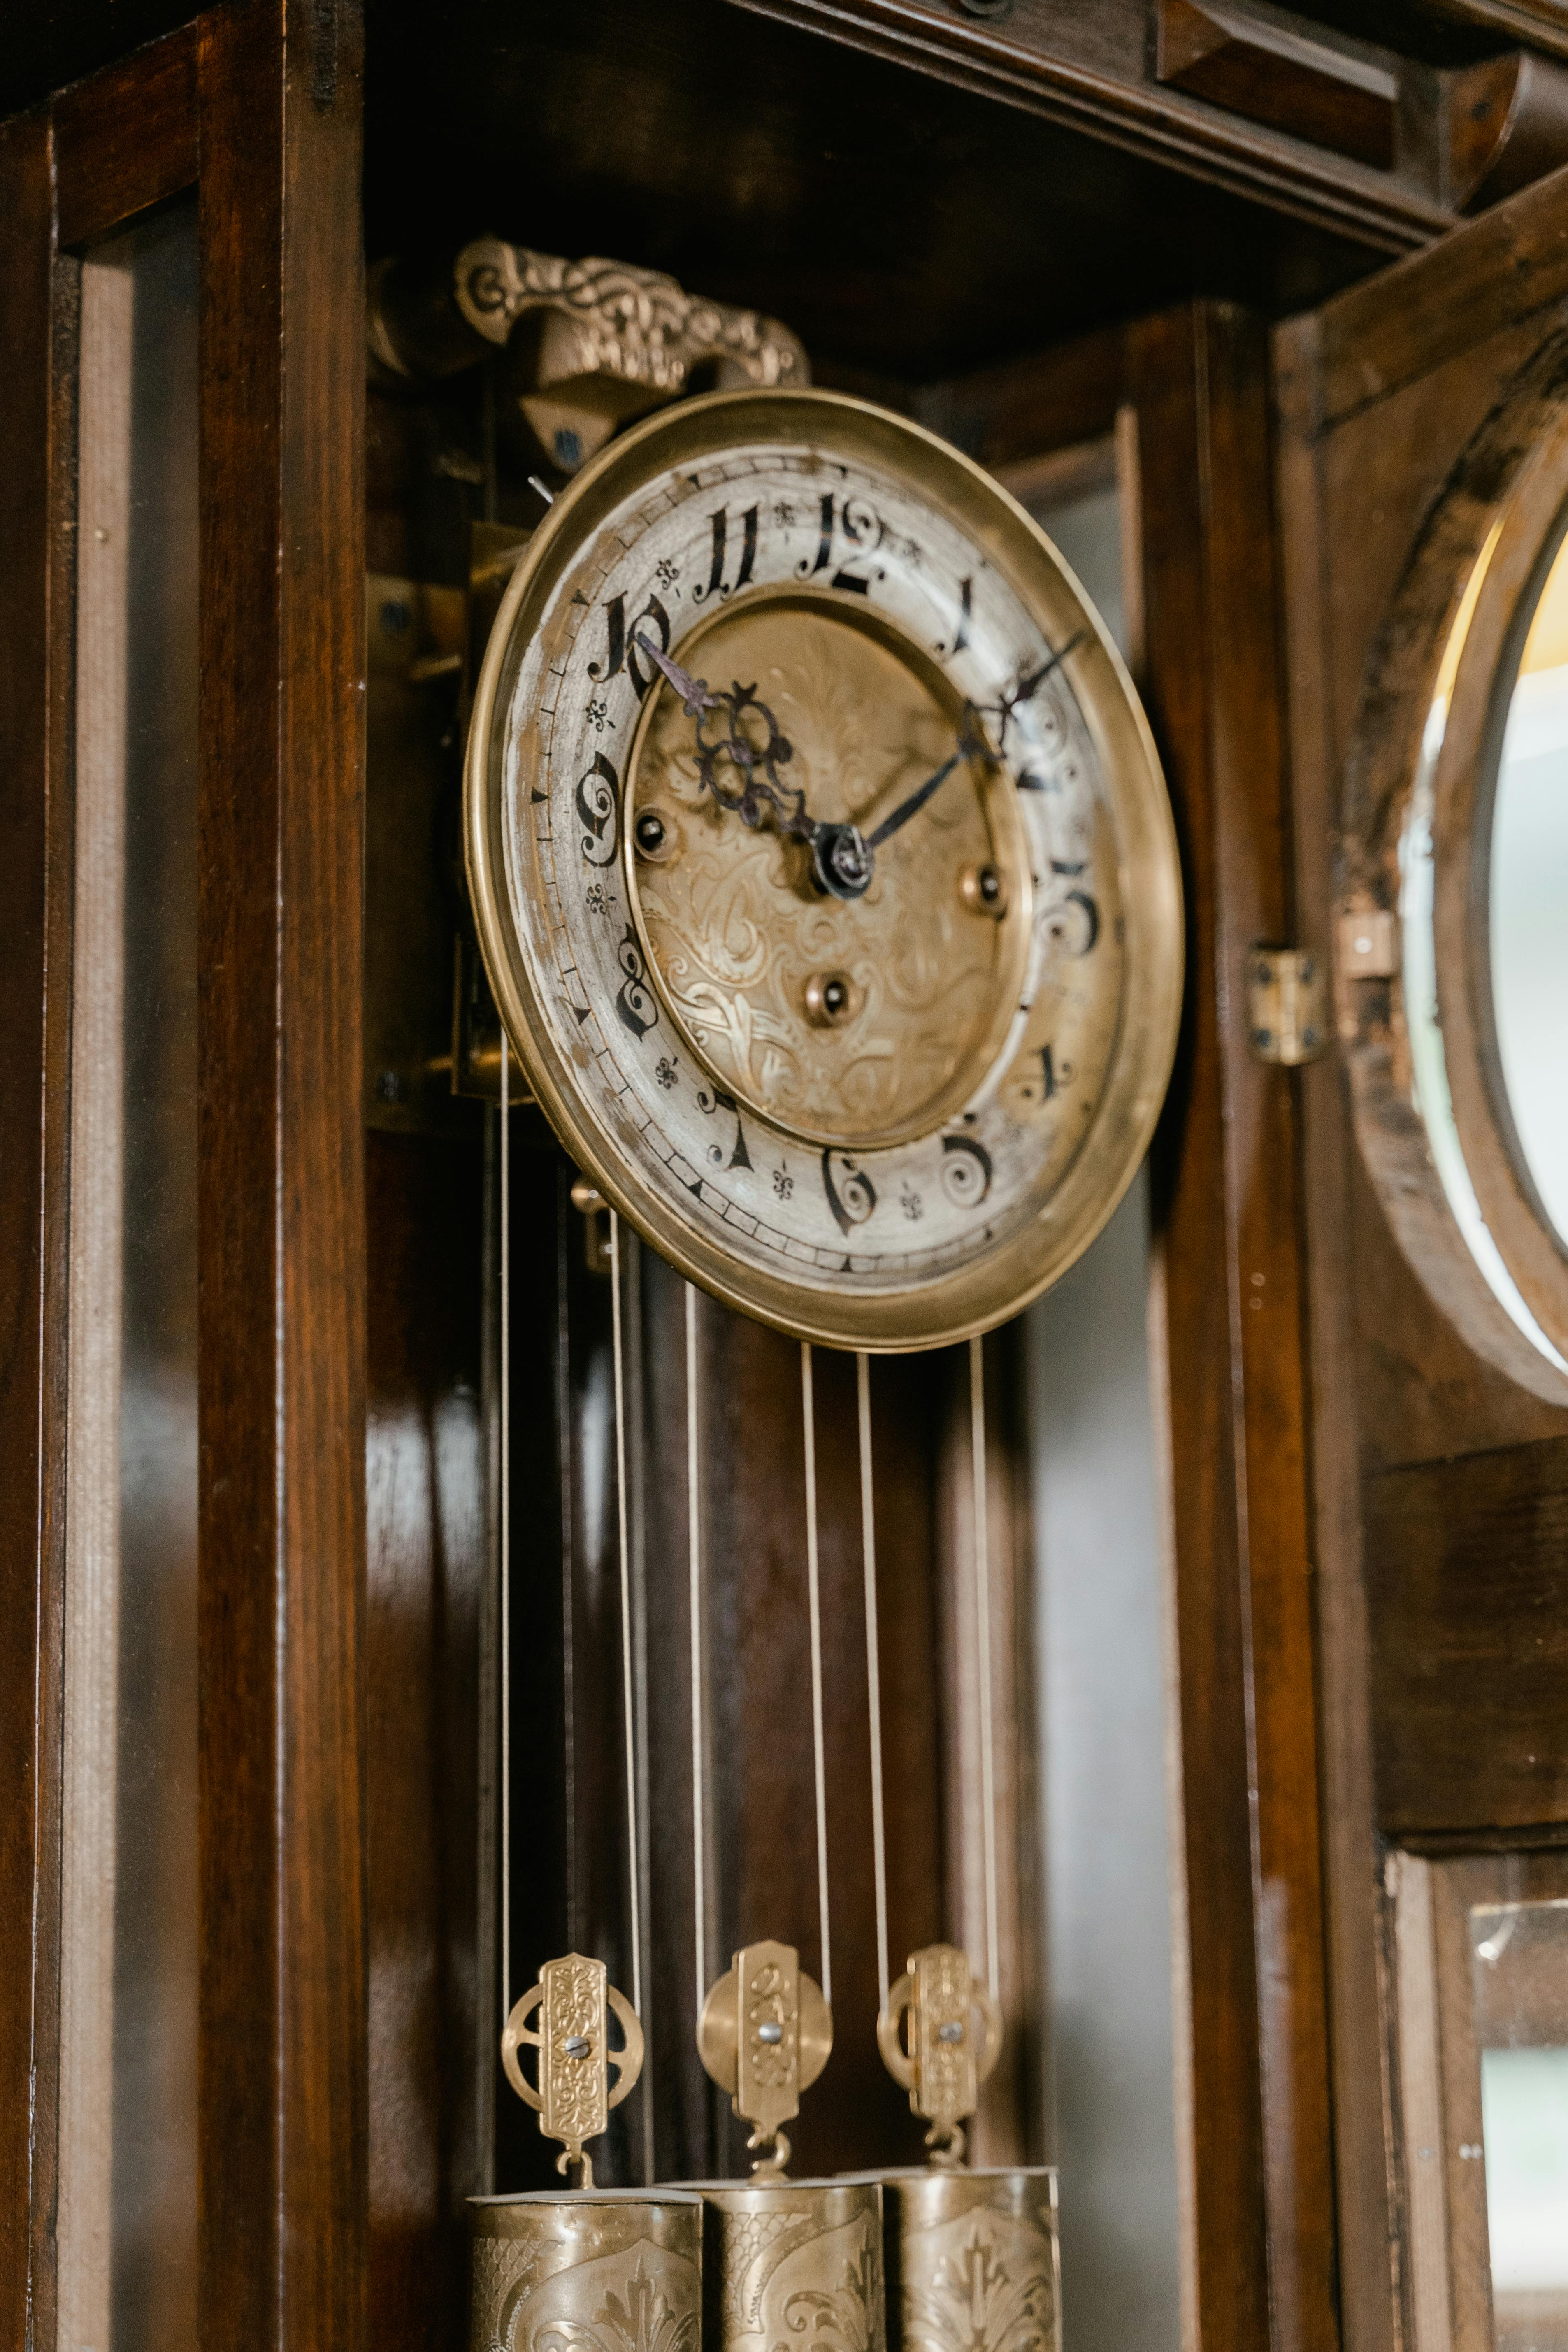clock: (441, 285, 1356, 1346)
